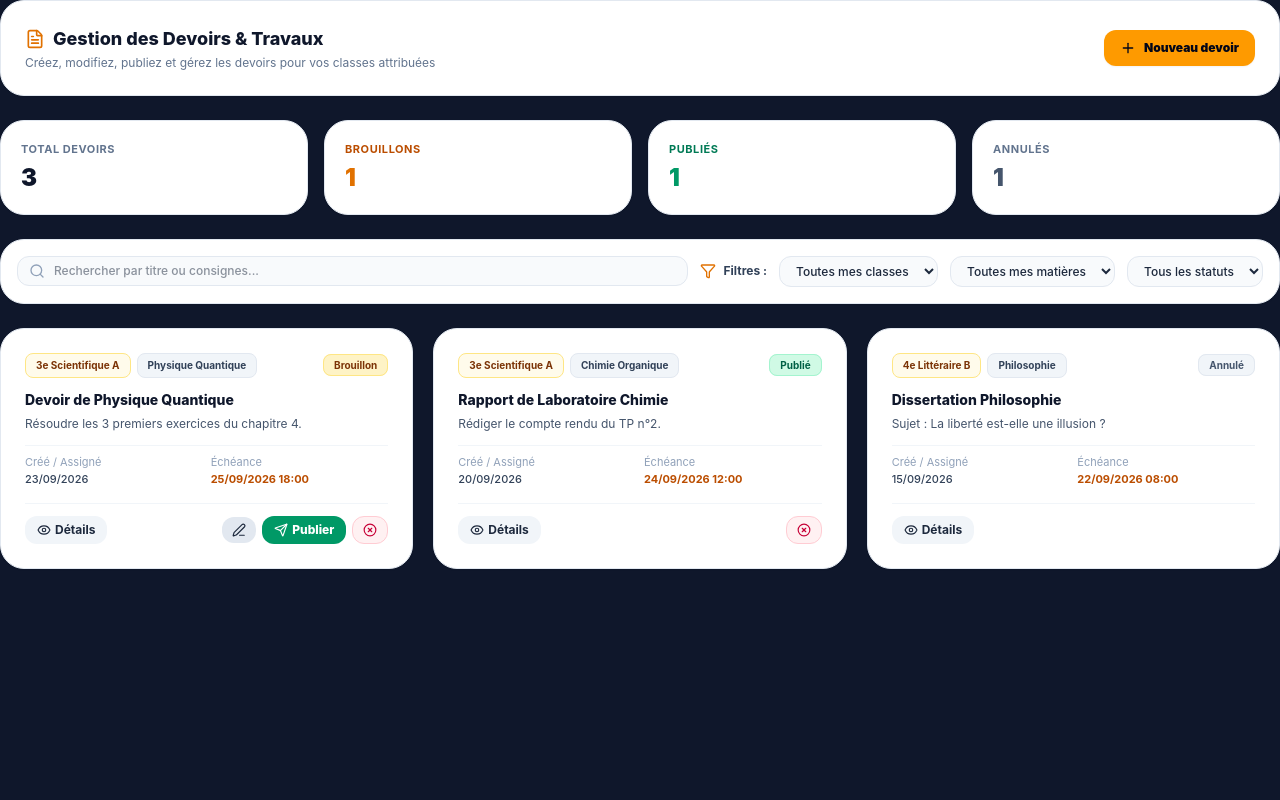
Test case: TeacherHomeworkModule — Suite de Tests Frontend Complète (24 scénarios) › 6. Filtre correctement par classe, matière et statut
Expected: the heading "Devoir de Physique Quantique" is shown, [25, 390, 234, 408]
# Le 3ème select est le filtre de statut
Select "Brouillons" in the dropdown named "Filtre Statut" at (1195, 271), box [1127, 256, 1263, 286]
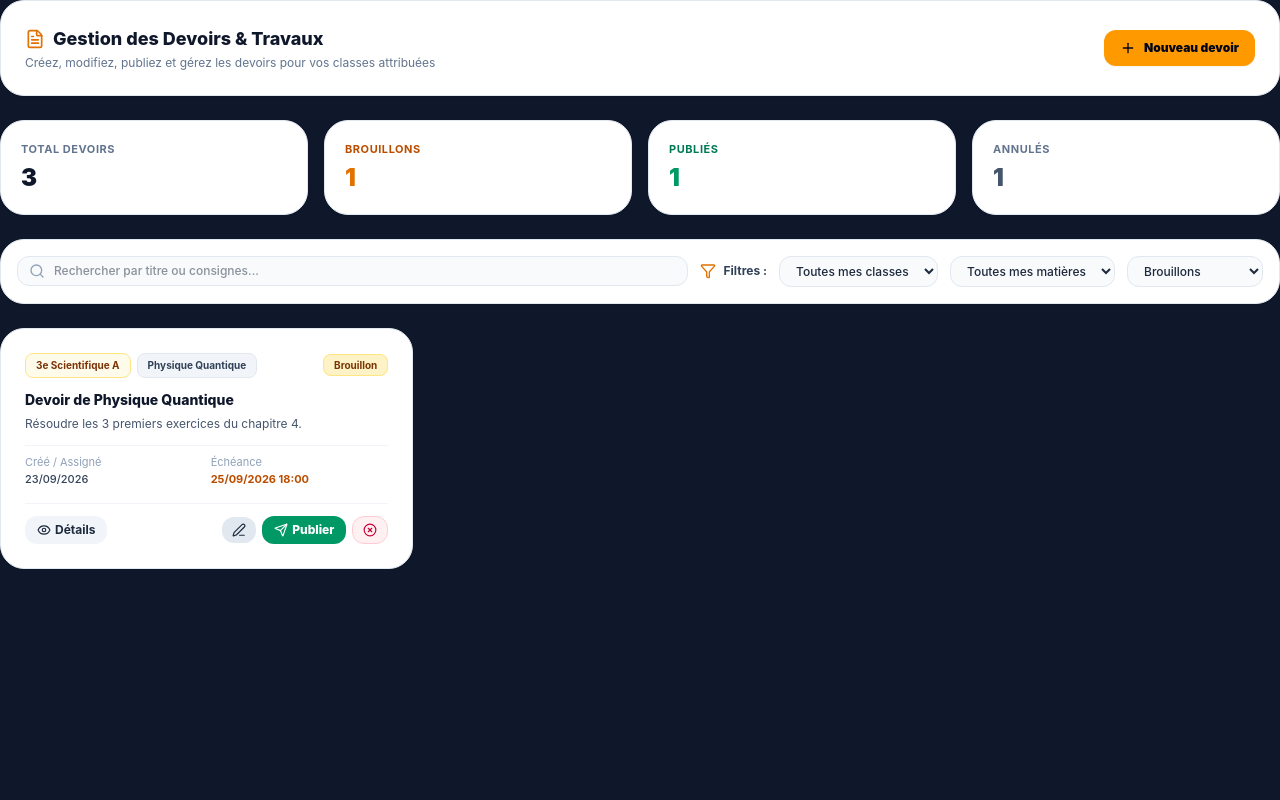
Expected: the heading "Devoir de Physique Quantique" is shown, [25, 390, 234, 408]
Result: the heading "Rapport de Laboratoire Chimie" is gone
Result: the heading "Dissertation Philosophie" is gone
